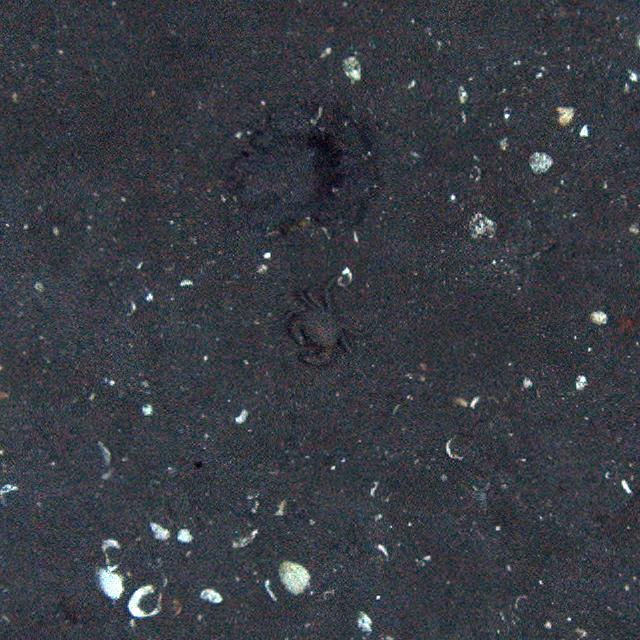crab: (288, 278, 374, 368)
